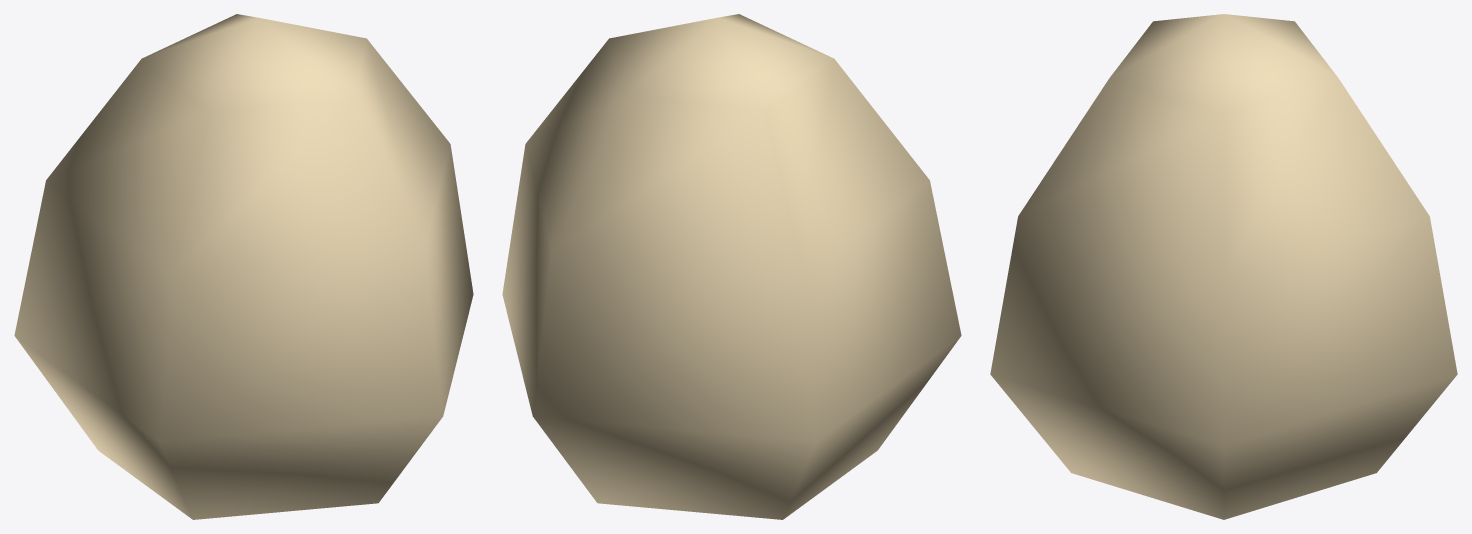
The model's file is duck_egg.fbx.
3 renders of one model, left to right at view 1: azimuth 30°, elevation 25°; view 2: azimuth 150°, elevation 25°; view 3: azimuth 270°, elevation 25°, orthographic.
Parts seen in each view (by area): view 1: pSphere1; view 2: pSphere1; view 3: pSphere1.
Boxes of the visible parts, <box> form: pSphere1: <box>14,14,473,519</box>; pSphere1: <box>502,14,961,519</box>; pSphere1: <box>990,14,1457,519</box>.
Bounding box in the file's own units: 0.4104 × 0.481 × 0.4316.
Materials: 1 (1 with a texture image).
